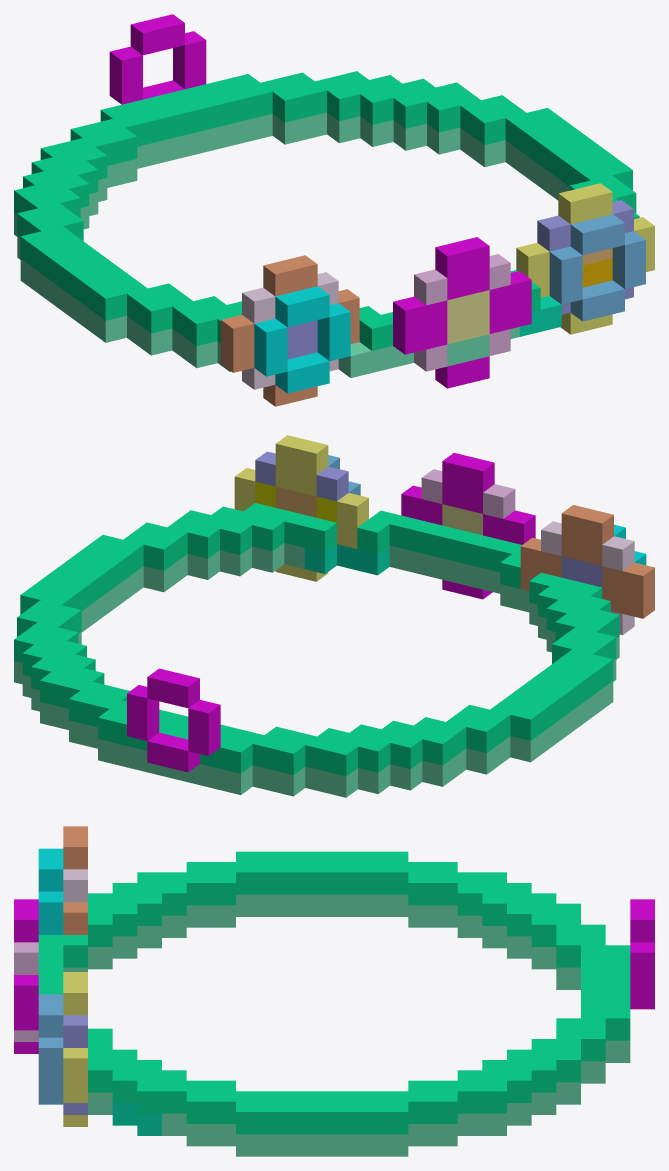
The picture shows the model from 3 angles, top to bottom: view 1: azimuth 30°, elevation 25°; view 2: azimuth 150°, elevation 25°; view 3: azimuth 270°, elevation 25°; orthographic projection. The views are drawn at different scales.
Bounding box in the file's own units: 1.25 × 0.3 × 1.3.
